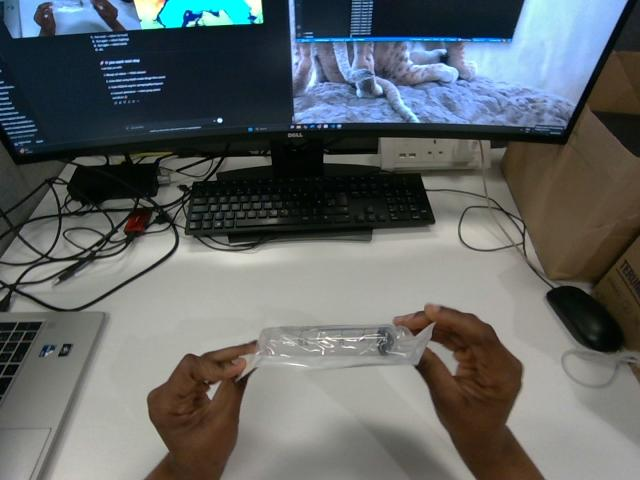syringe: (240, 324, 434, 377)
